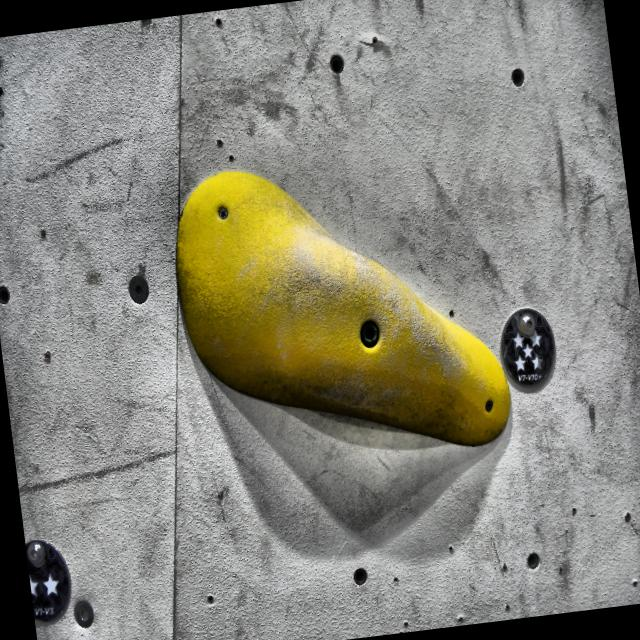Hold: (164, 139, 516, 488)
